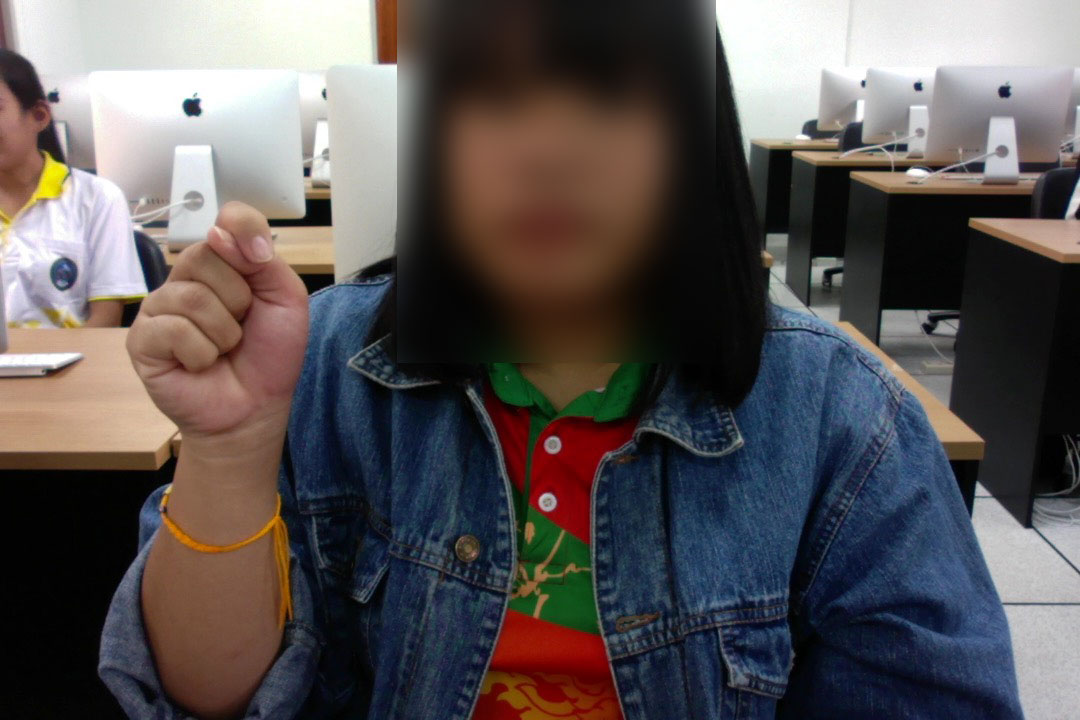tor: (106, 182, 339, 486)
